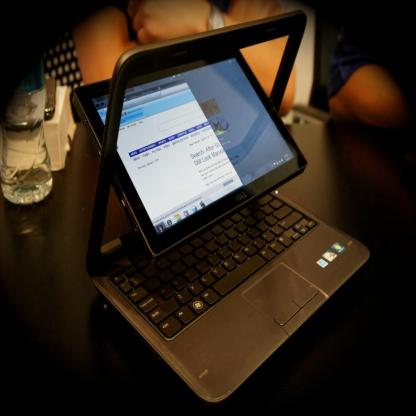board: (73, 7, 368, 402)
